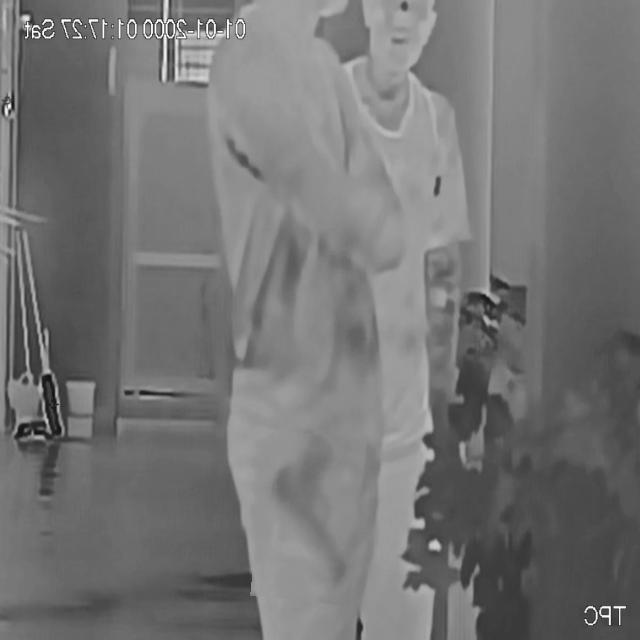Weapon: (254, 432, 362, 604)
